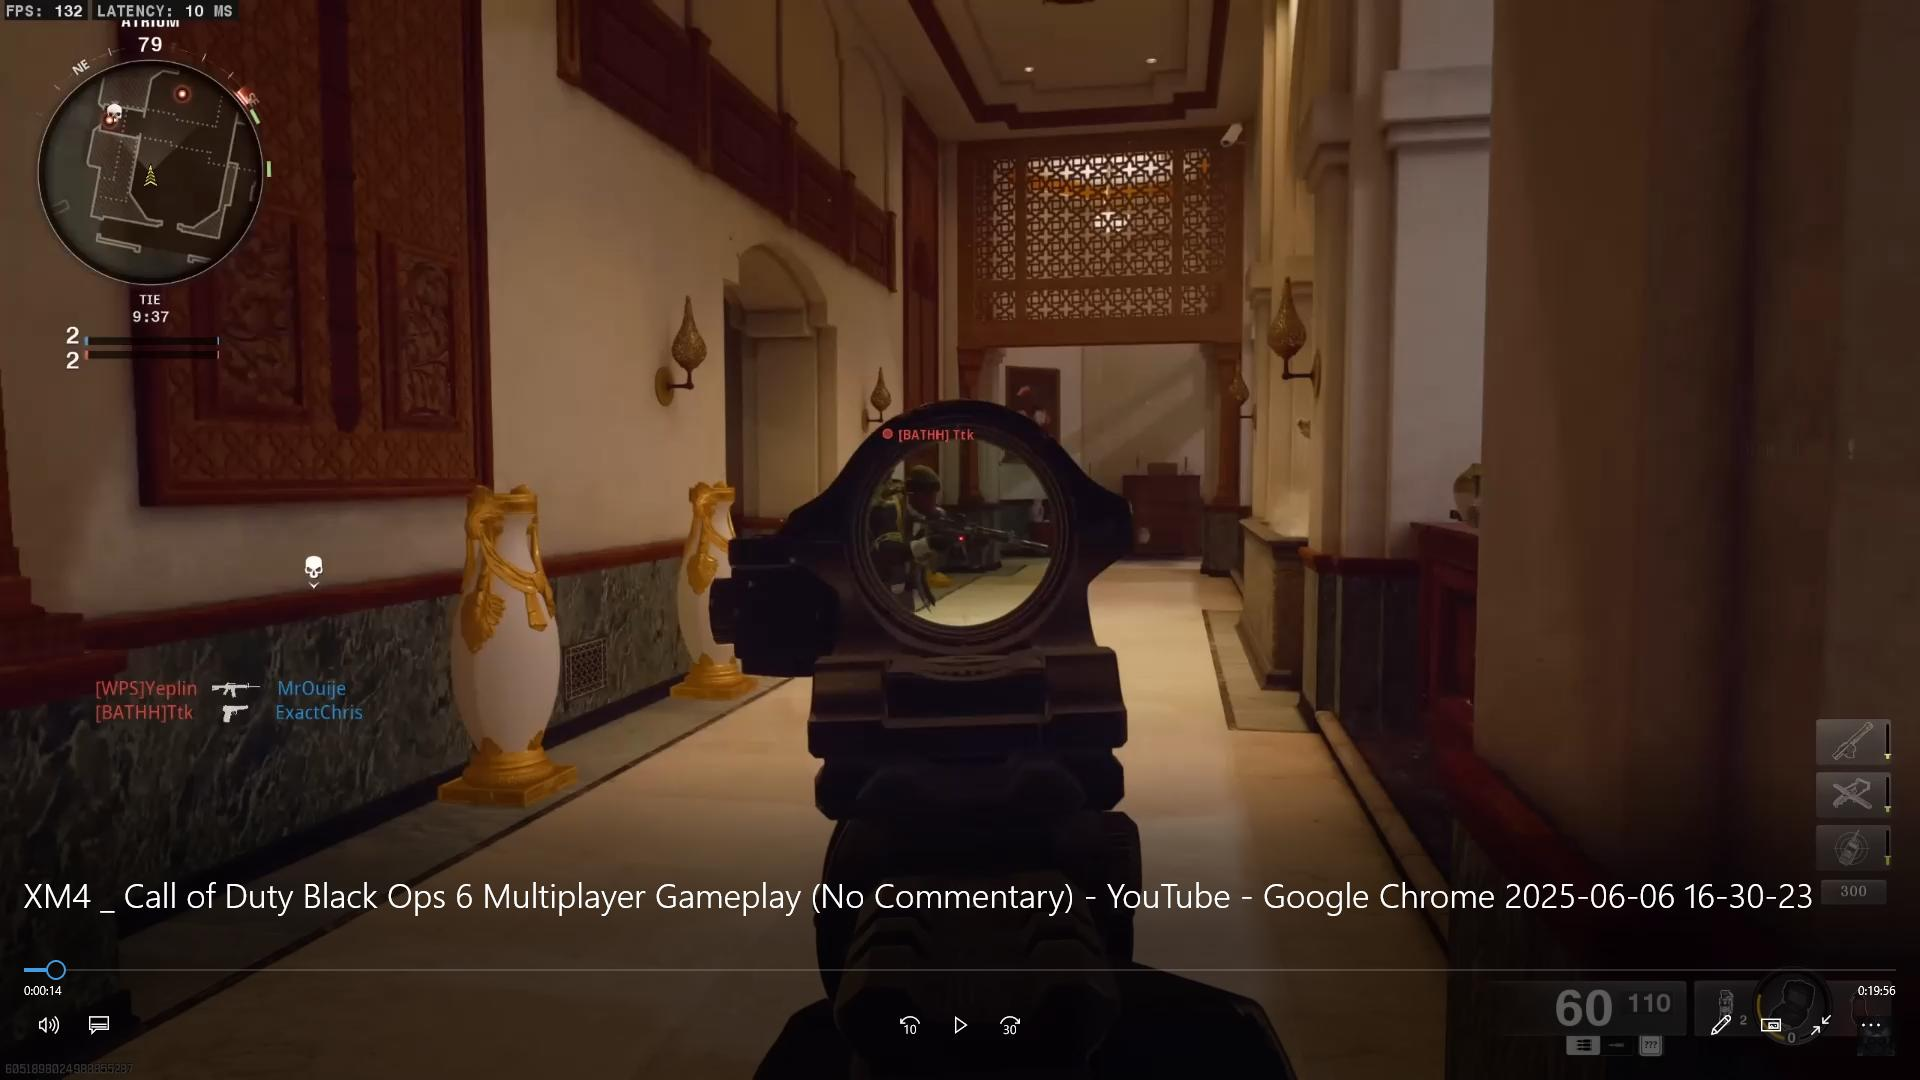Enemy: (886, 451, 978, 599)
